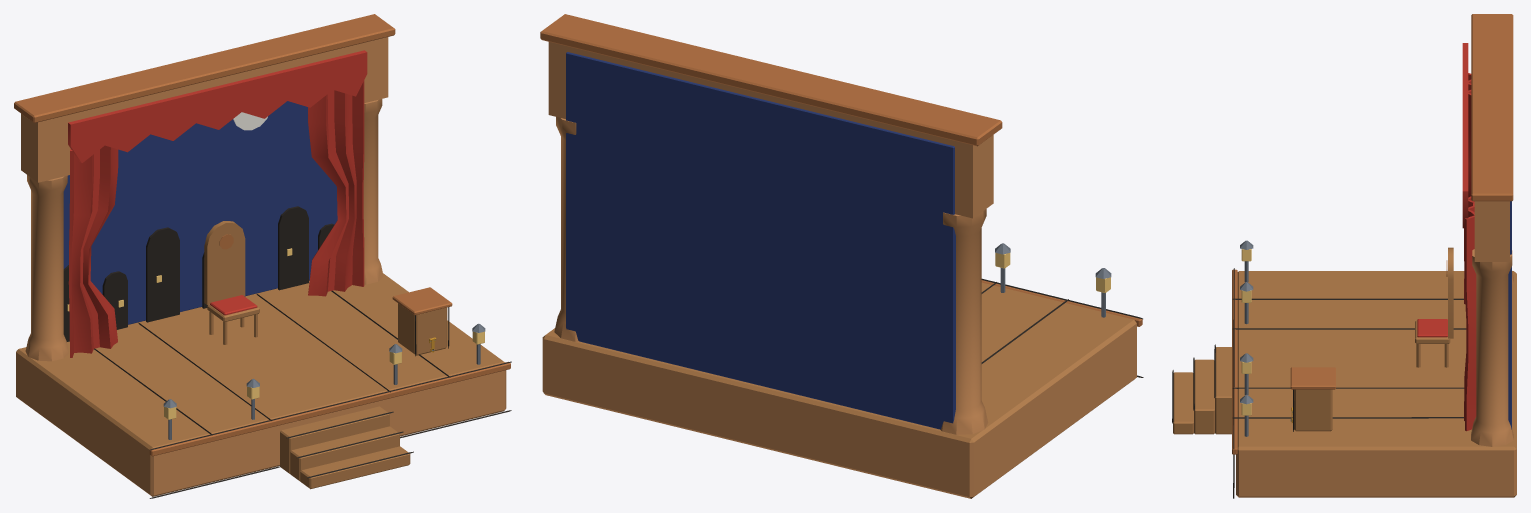
Rendered from Stage.fbx.
The picture shows the model from 3 angles, left to right: view 1: azimuth 30°, elevation 25°; view 2: azimuth 150°, elevation 25°; view 3: azimuth 270°, elevation 25°; orthographic projection. The views are drawn at different scales.
Visible parts, largest first — view 1: Main, Face, StageProp; view 2: Main; view 3: Main, StageProp.
Boxes of the visible parts, x1,y1,x2,y2 form: Main: (14, 14, 511, 498); Face: (159, 430, 271, 488); StageProp: (392, 287, 452, 356); Main: (540, 14, 1143, 498); Main: (1172, 14, 1516, 498); StageProp: (1290, 367, 1335, 431).
Bounding box in the file's own units: 6.1 × 4.81 × 4.91.
